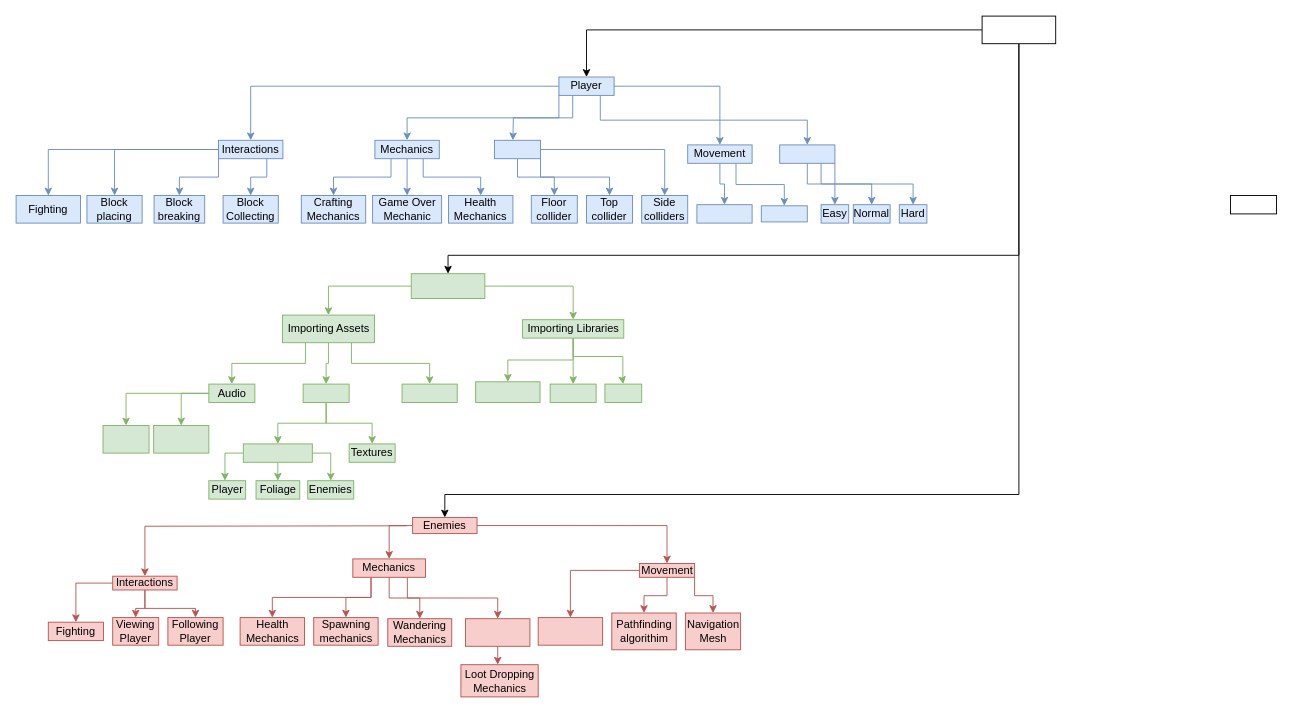
Image size: 1293x713. Some labels were removed from this diagram. Each missing label, with the centre of its shape:
"Ambient Audio" belongs at pixel 181 439.
"Colliders" belongs at pixel 517 149.
"Death Mechanics" belongs at pixel 497 632.
"Difficulties" belongs at pixel 807 153.
"Fonts" belongs at pixel 429 392.
"Images" belongs at pixel 325 392.
"Installation" belongs at pixel 447 286.
"Jumping" belongs at pixel 783 213.
"math" belongs at pixel 623 392.
"Newton Craft" belongs at pixel 1018 29.
"PerlinNoise" belongs at pixel 507 391.
"Player audio" belongs at pixel 125 439.
"Pygame" belongs at pixel 572 392.
"Random Wandering" belongs at pixel 570 631.
"Sprite Sheets" belongs at pixel 277 452.
"Walking" belongs at pixel 724 213.
"World" belongs at pixel 1253 204.
